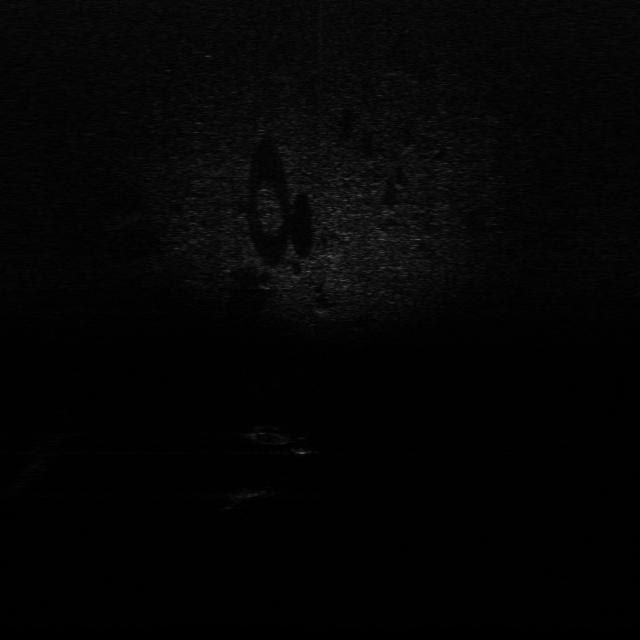ball: (290, 436, 320, 459)
square cage: (228, 484, 274, 504)
tyre: (244, 421, 292, 448)
